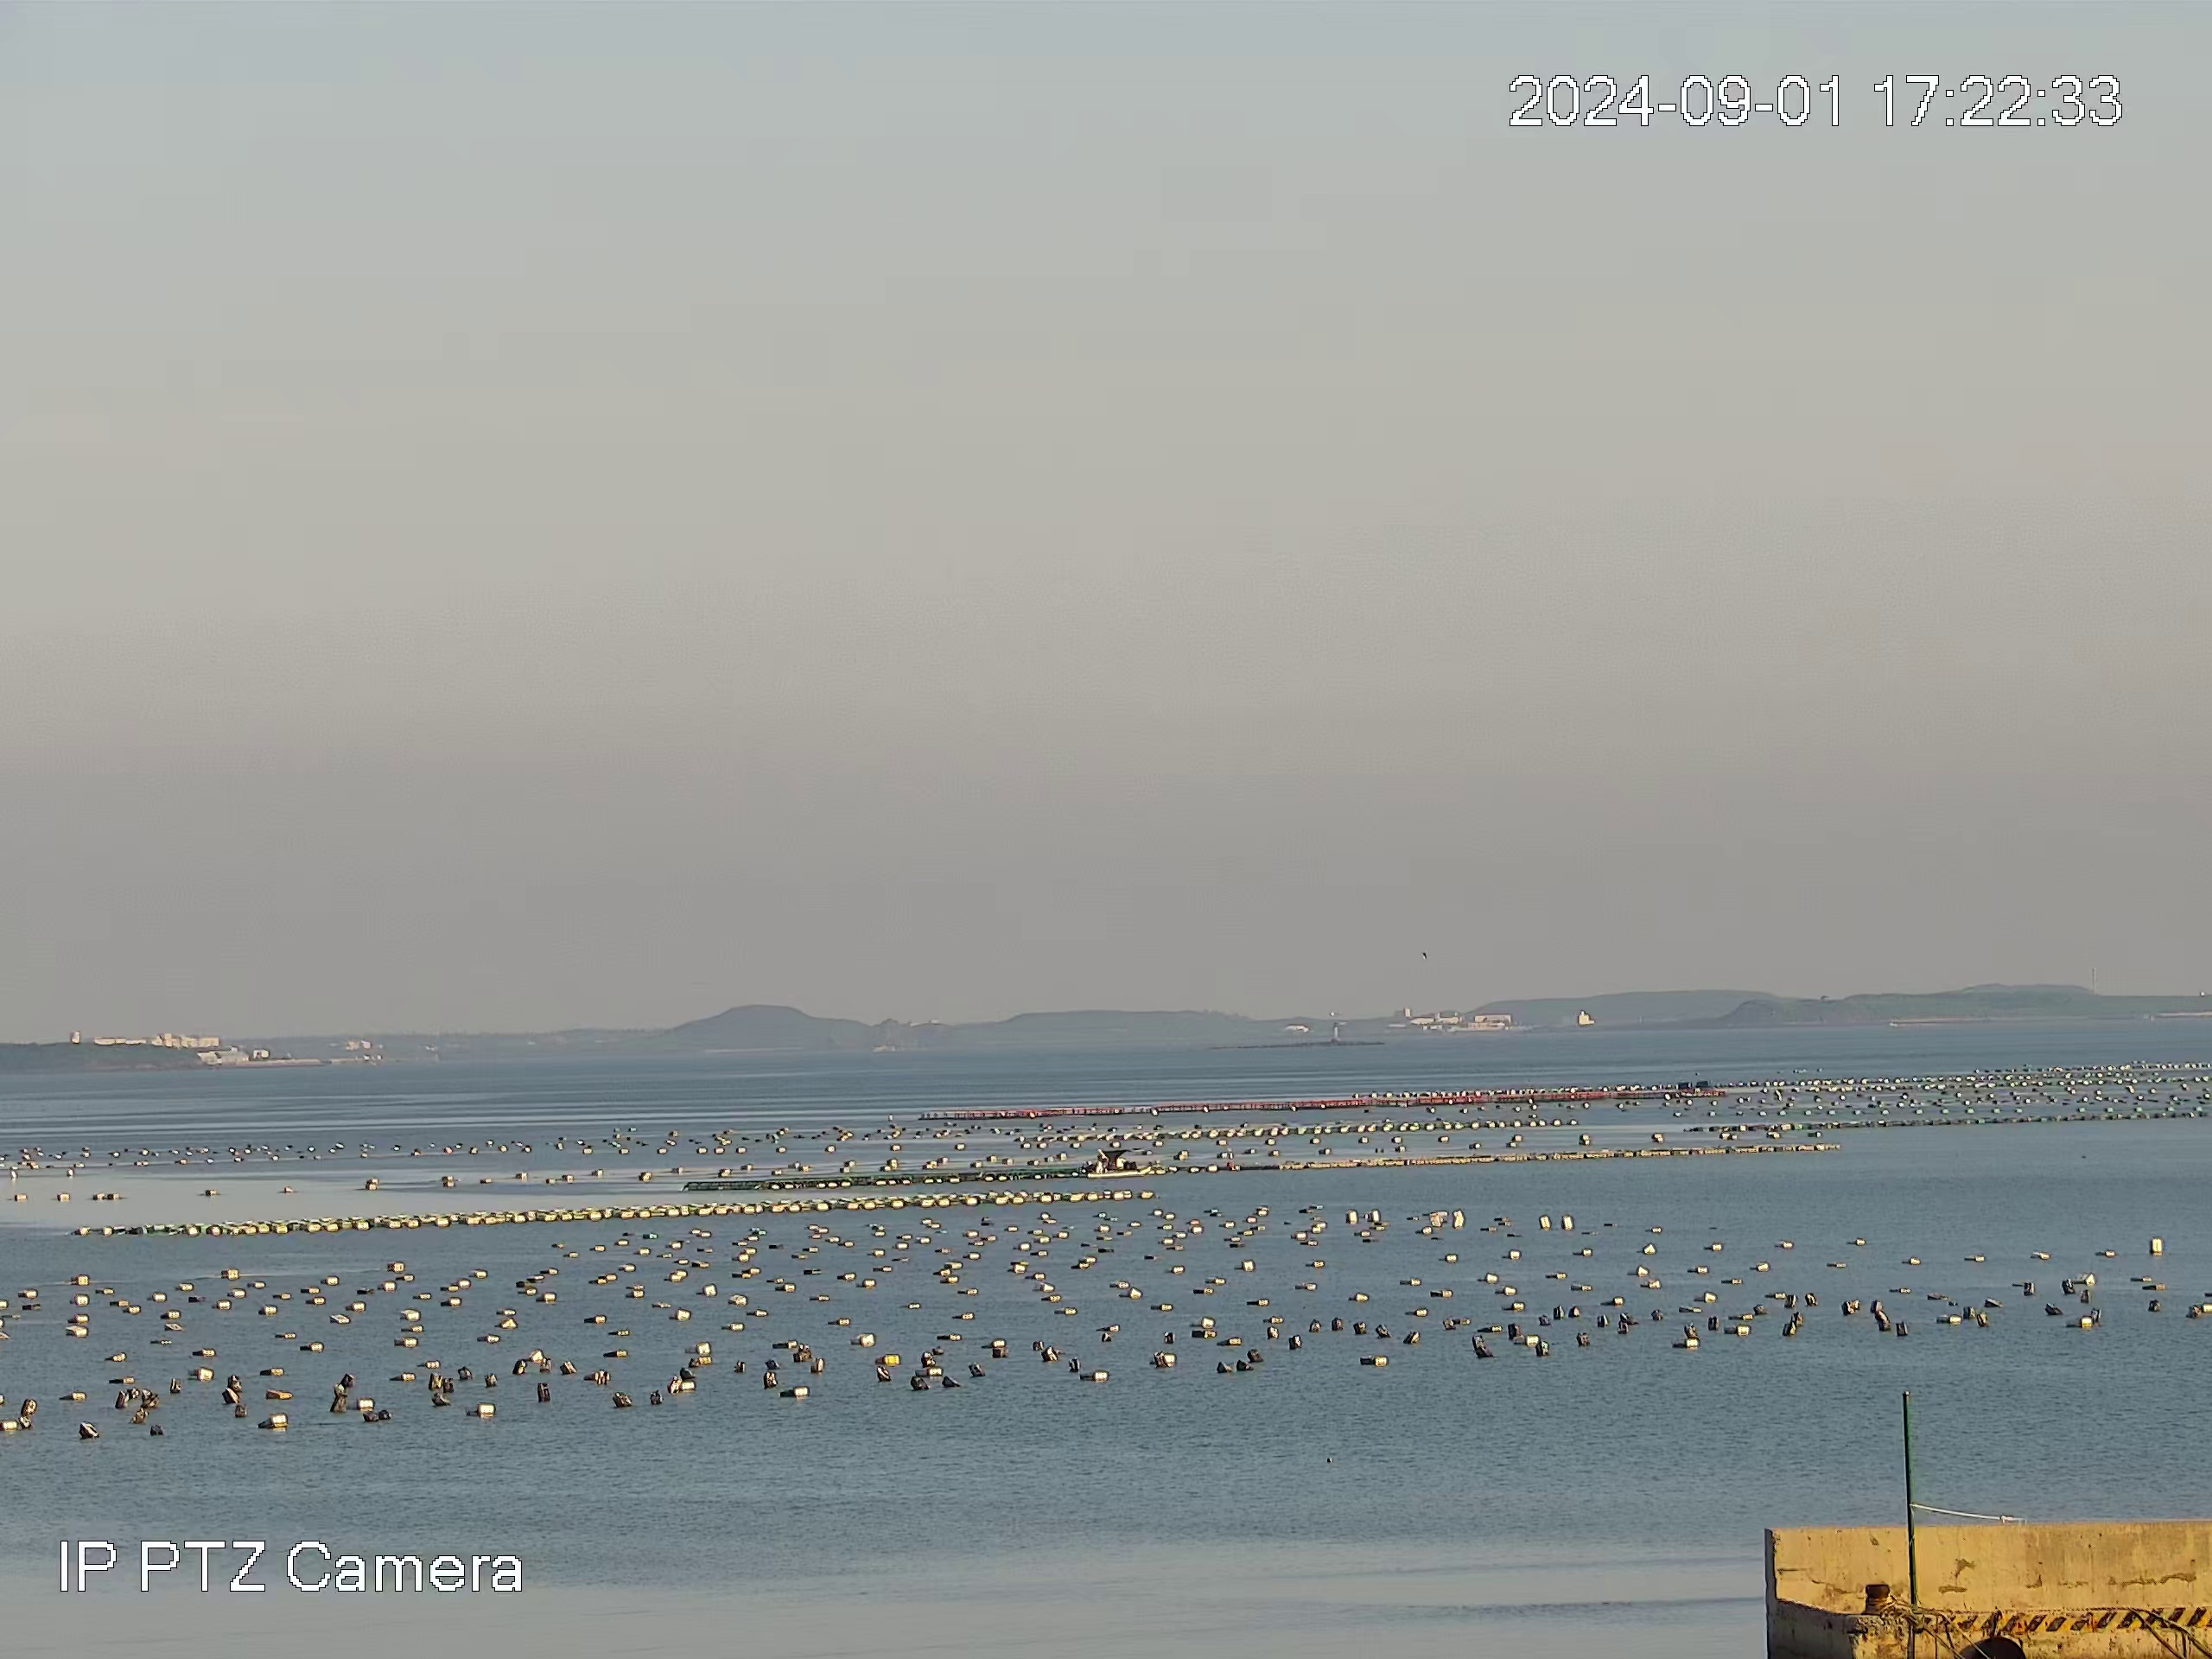boat: (1092, 1150, 1150, 1173)
